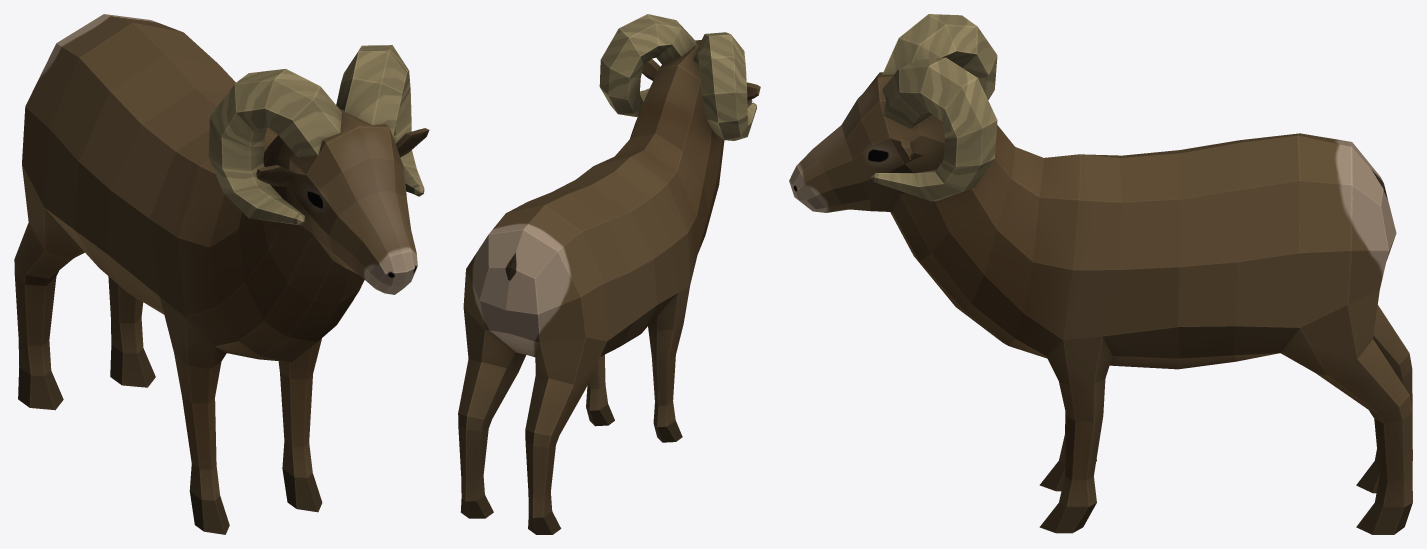
File: BighornSheep.gltf
The picture shows the model from 3 angles, left to right: view 1: azimuth 30°, elevation 25°; view 2: azimuth 150°, elevation 25°; view 3: azimuth 270°, elevation 25°; orthographic projection. The views are drawn at different scales.
Visible parts, largest first — view 1: node-0; view 2: node-0; view 3: node-0.
Boxes of the visible parts, x1=… form: node-0: x1=14, y1=14, x2=429, y2=534; node-0: x1=458, y1=14, x2=760, y2=534; node-0: x1=789, y1=14, x2=1412, y2=534.
Size of the model in its own units: 2.46 by 6.21 by 7.53.
Materials: 1 (1 with a texture image).
